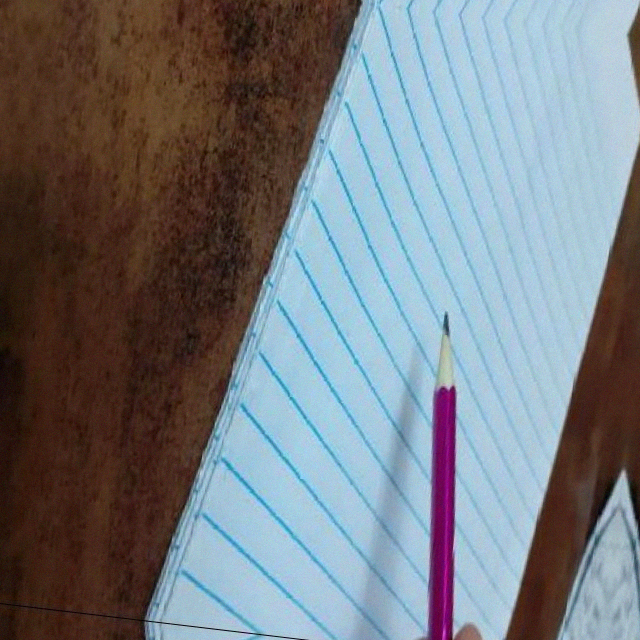pencil: (427, 308, 469, 391)
